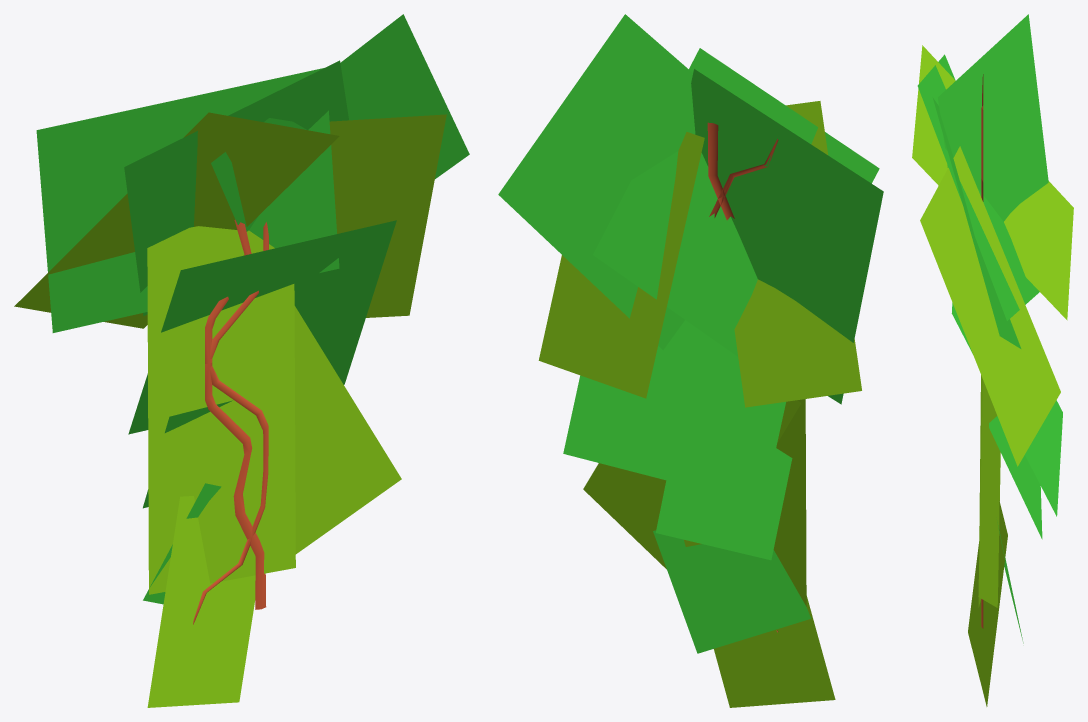
File: Leaves.fbx
3 views of the same model, side by side, from view 1: azimuth 30°, elevation 25°; view 2: azimuth 150°, elevation 25°; view 3: azimuth 270°, elevation 25° (orthographic). The views are drawn at different scales.
Visible parts, largest first — view 1: Leaves; view 2: Leaves; view 3: Leaves.
Part boxes in pixels (left/top/right/bottom): Leaves: left=14, top=14, right=469, bottom=707; Leaves: left=498, top=14, right=883, bottom=707; Leaves: left=912, top=14, right=1073, bottom=706.
Bounding box in the file's own units: 1.23 × 1.89 × 0.4082.
